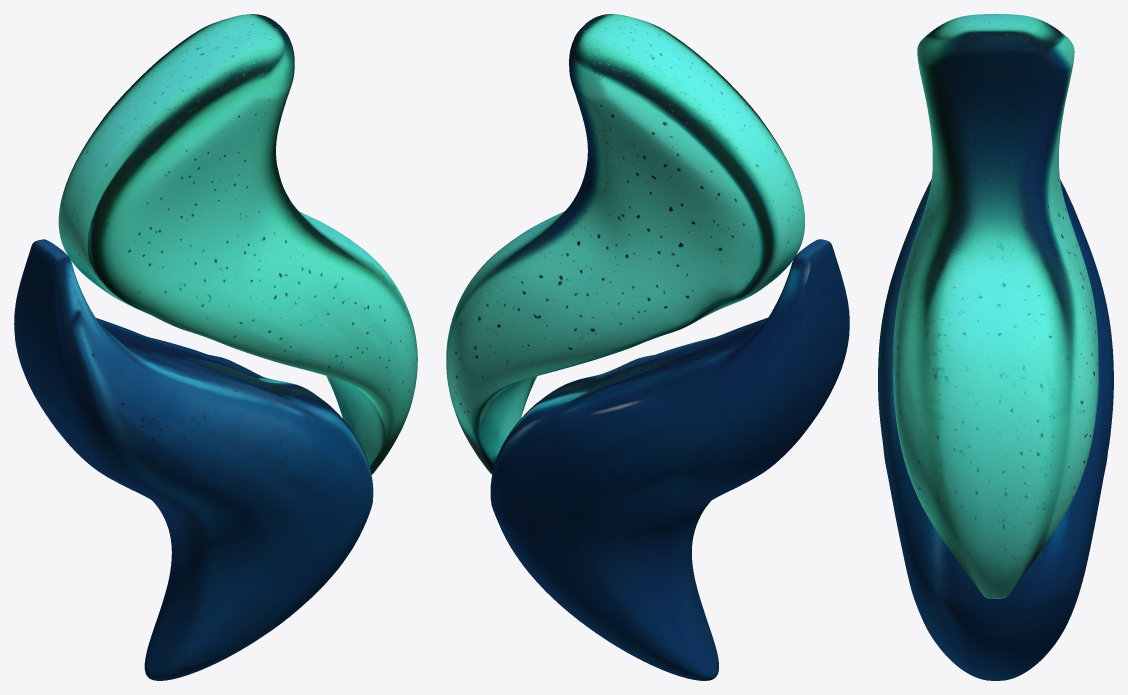
The model's file is opt_Interwoven_Waves_0508010554.glb.
3 views of the same model, side by side, from view 1: azimuth 30°, elevation 25°; view 2: azimuth 150°, elevation 25°; view 3: azimuth 270°, elevation 25° (orthographic). The views are drawn at different scales.
Bounding box in the file's own units: 1.15 × 1.9 × 0.5939.
1 material, 1 textured.
